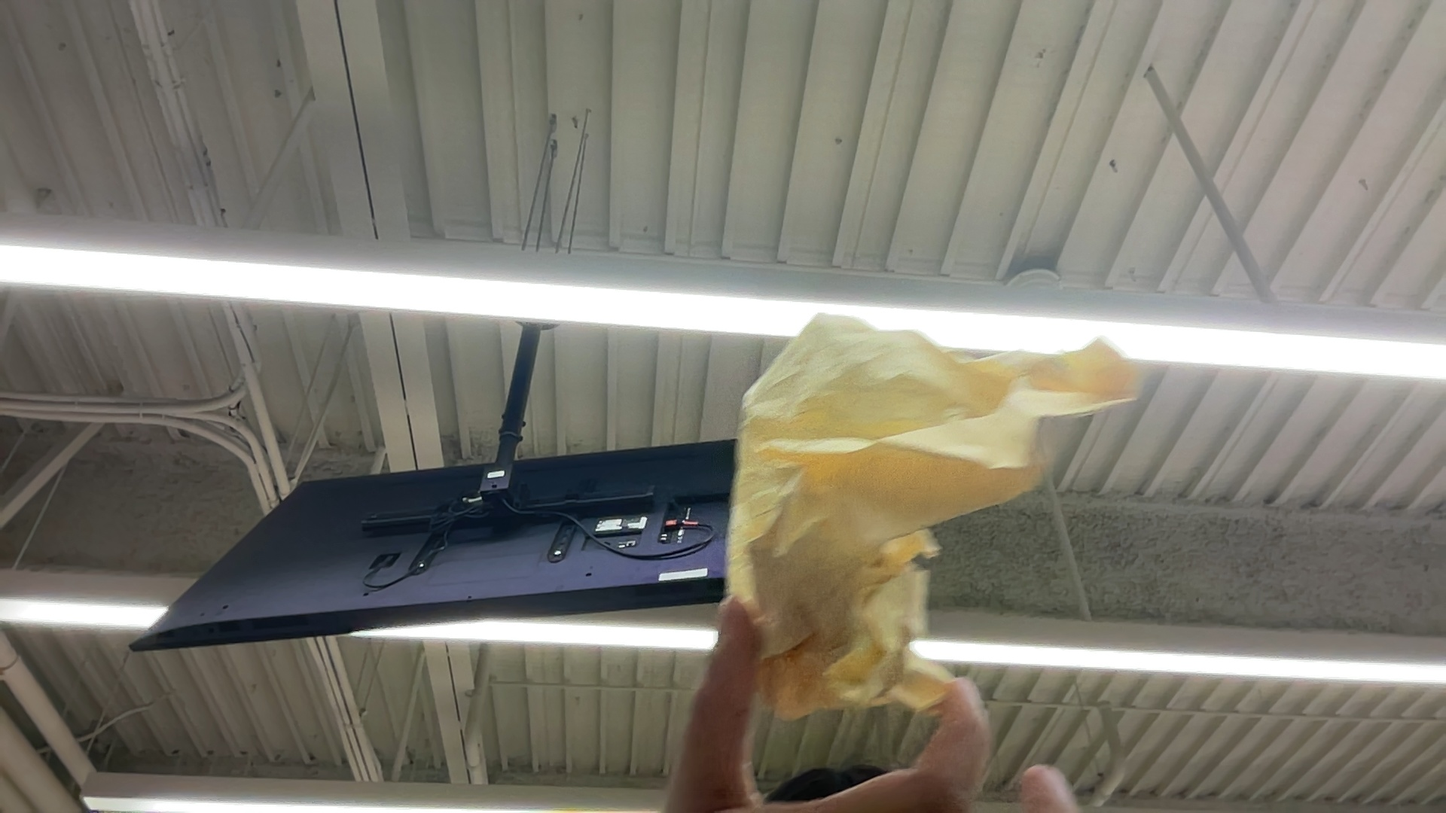Paper: (4, 404, 274, 604)
